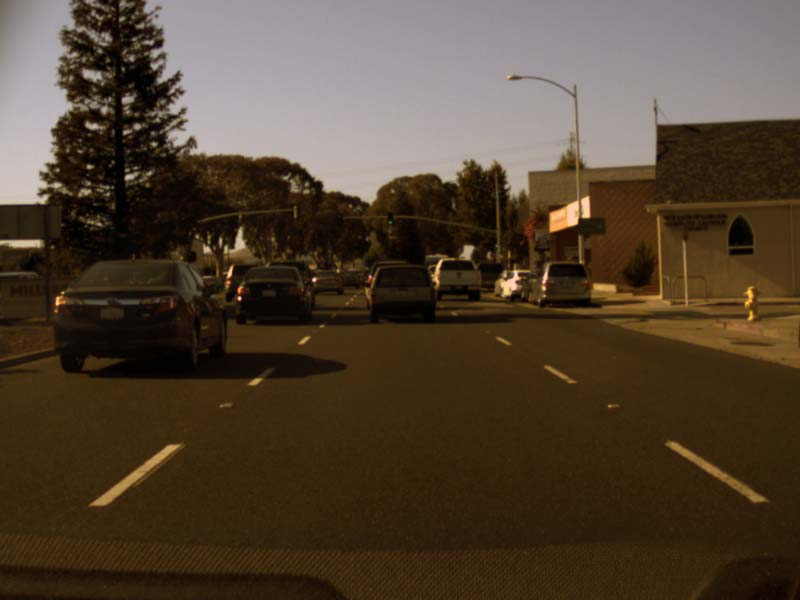Green: (386, 211, 393, 225), (493, 239, 499, 250)
Red: (336, 212, 341, 225)
